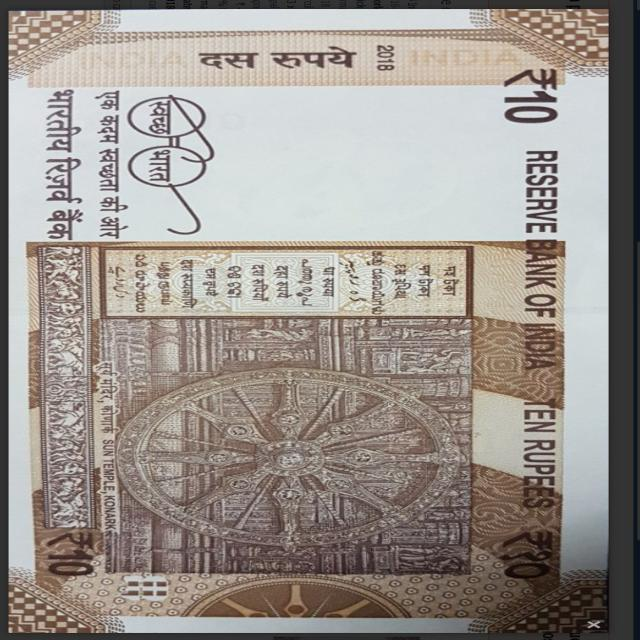10IndianRupees: (17, 14, 615, 629)
